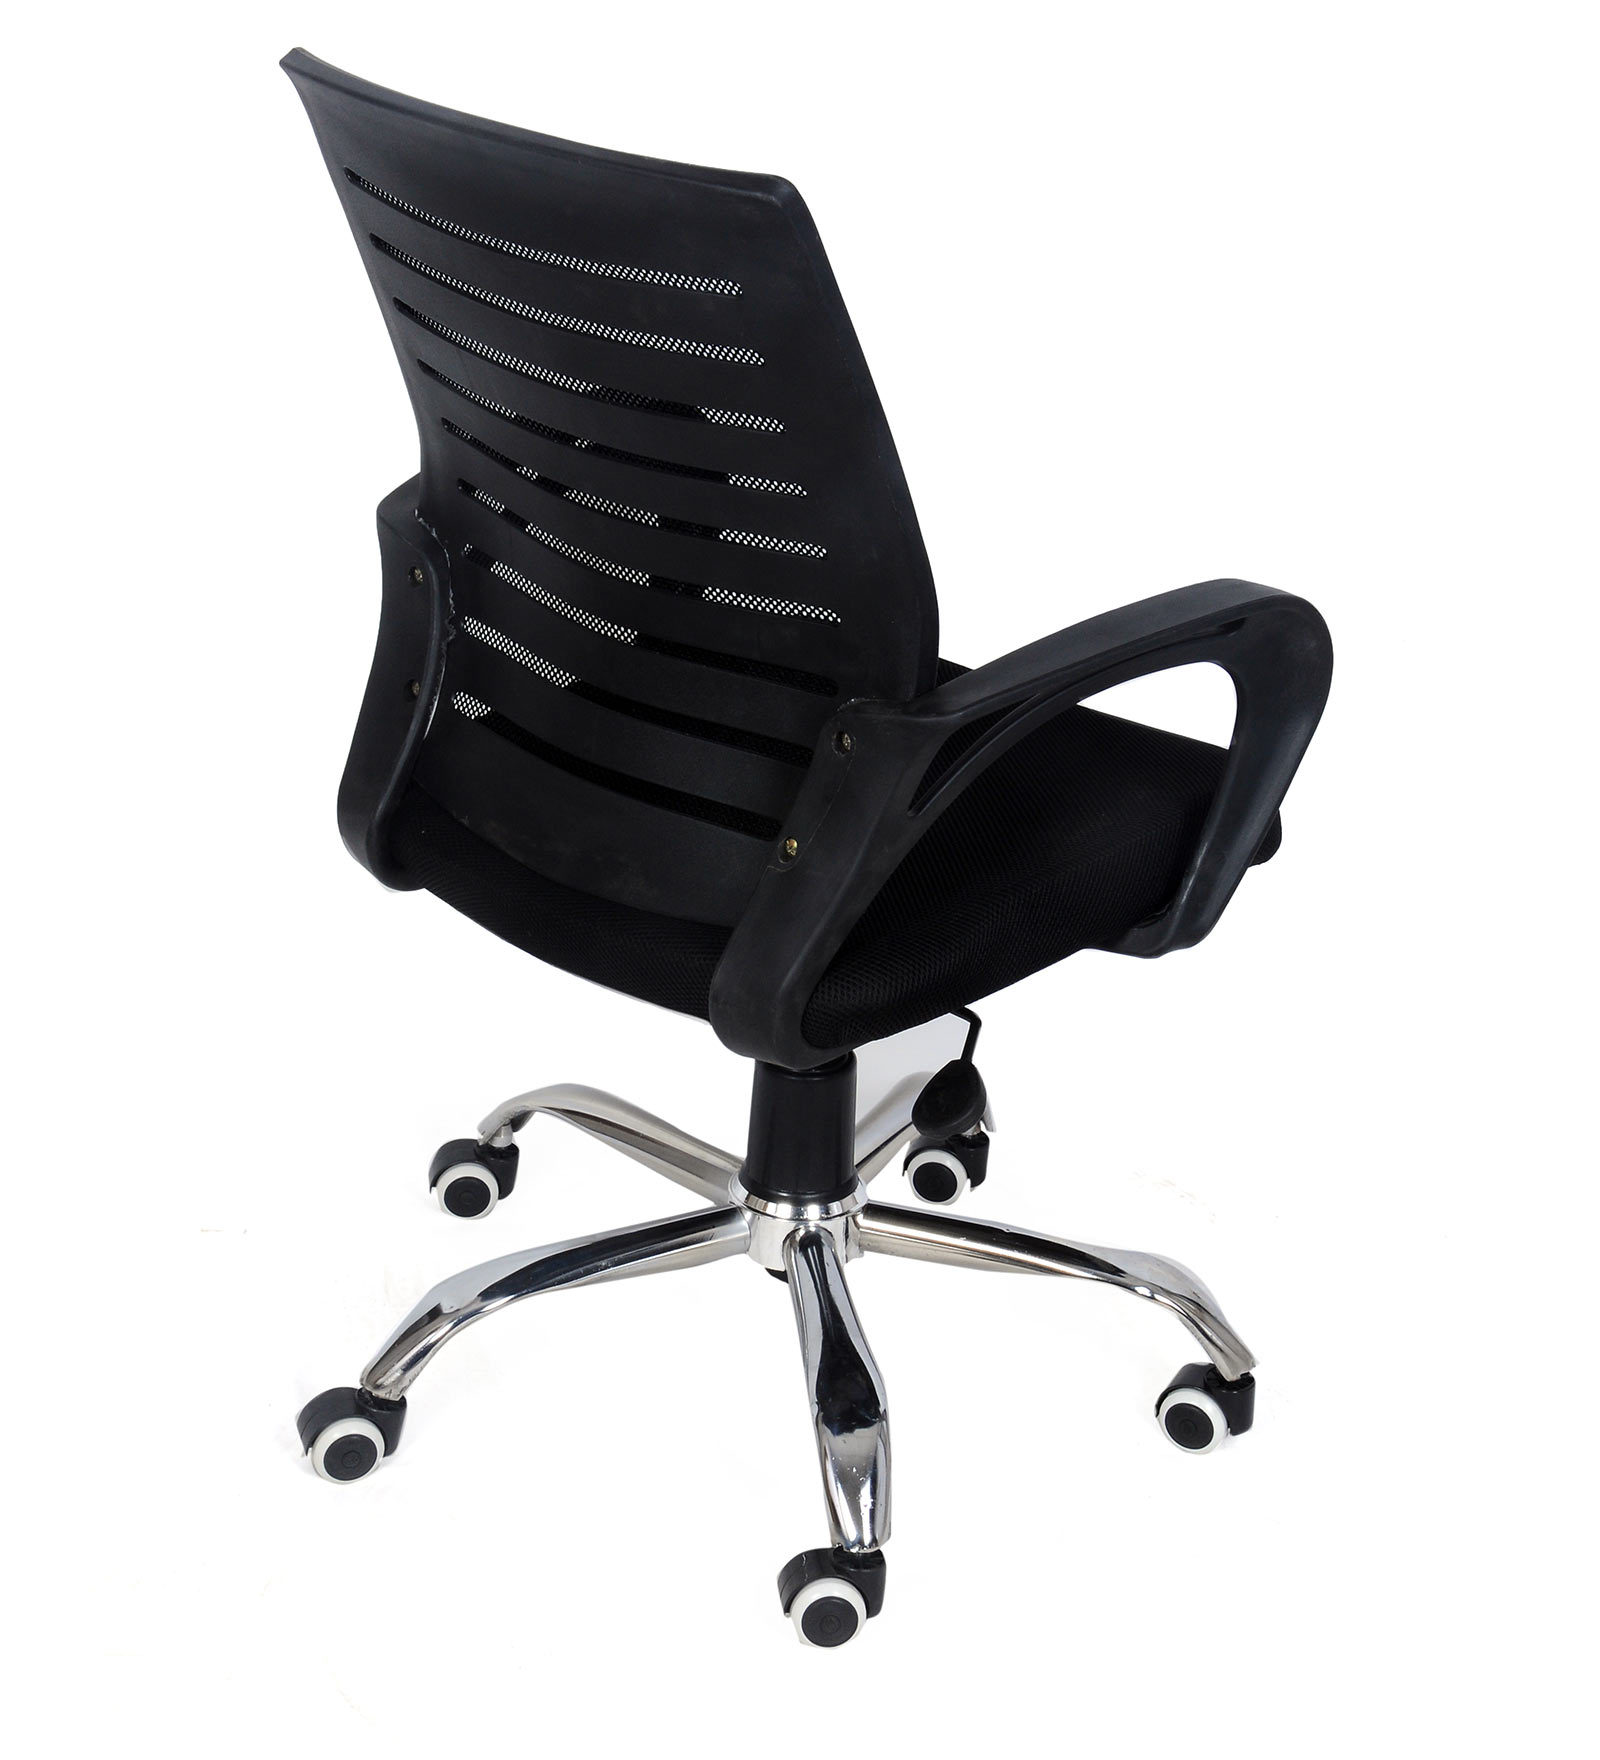Classical Medium Back Ergonomic Chair by Furniease: (195, 31, 1346, 1656)
